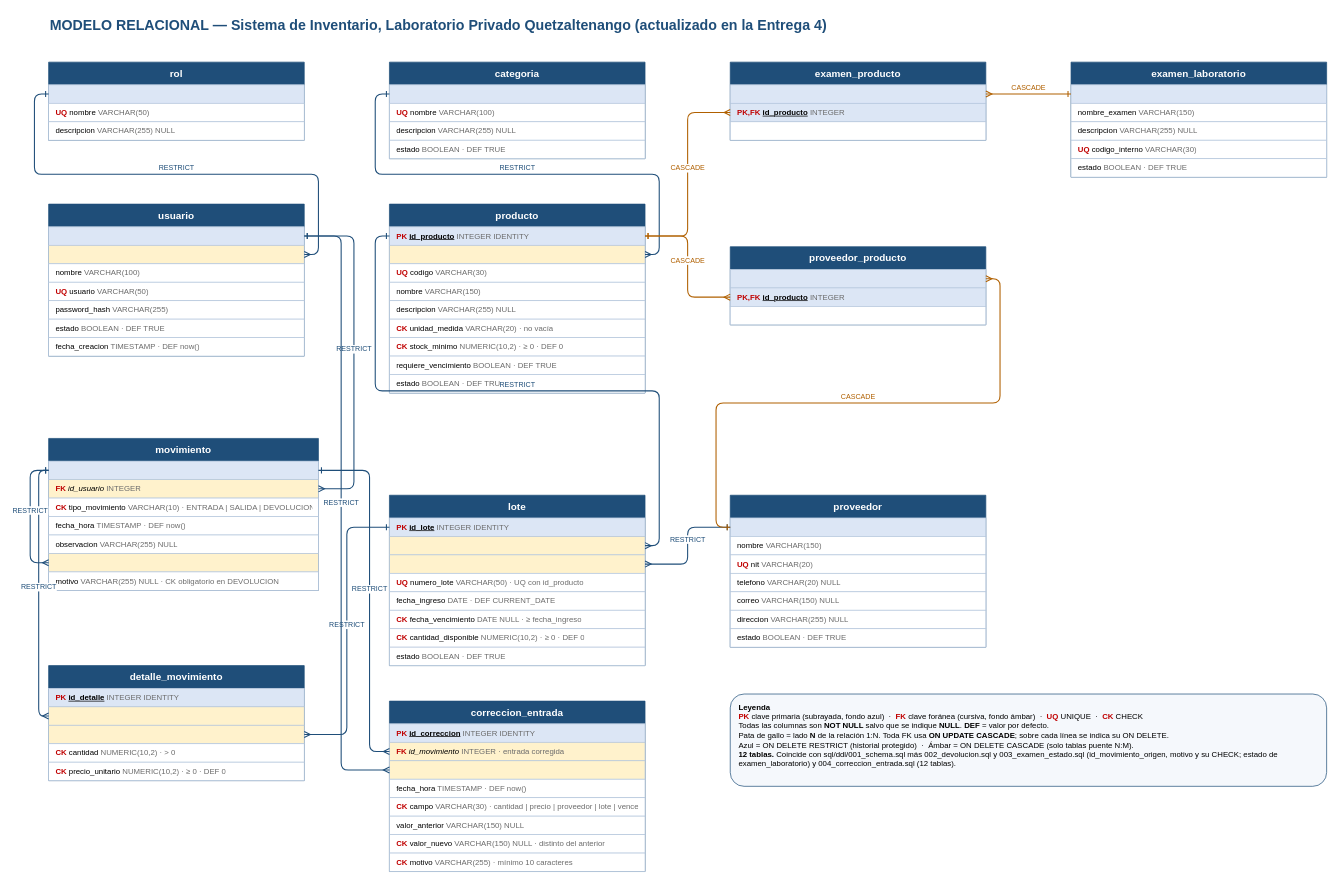
Some shapes in this 1339 by 884 pixel diagram are drawn without their labels. Each missing label, with the centre of its shape:
"CK cantidad_requerida NUMERIC(10,2) · > 0" goes at point (858, 130).
"CK precio_compra NUMERIC(10,2) · ≥ 0" goes at point (858, 315).
"FK id_categoria INTEGER" goes at point (517, 254).
"FK id_lote INTEGER" goes at point (176, 734).
"FK id_movimiento INTEGER" goes at point (176, 715).
"FK id_movimiento_origen INTEGER NULL · solo DEVOLUCION" goes at point (183, 562).
"FK id_producto INTEGER" goes at point (517, 545).
"FK id_proveedor INTEGER" goes at point (517, 563).
"FK id_rol INTEGER" goes at point (176, 254).
"FK id_usuario INTEGER · quién corrigió" goes at point (517, 769).
"PK id_categoria INTEGER IDENTITY" goes at point (517, 93).
"PK id_examen INTEGER IDENTITY" goes at point (1198, 93).
"PK id_movimiento INTEGER IDENTITY" goes at point (183, 470).
"PK id_proveedor INTEGER IDENTITY" goes at point (858, 526).
"PK id_rol INTEGER IDENTITY" goes at point (176, 93).
"PK id_usuario INTEGER IDENTITY" goes at point (176, 235).
"PK,FK id_examen INTEGER" goes at point (858, 93).
"PK,FK id_proveedor INTEGER" goes at point (858, 278).
